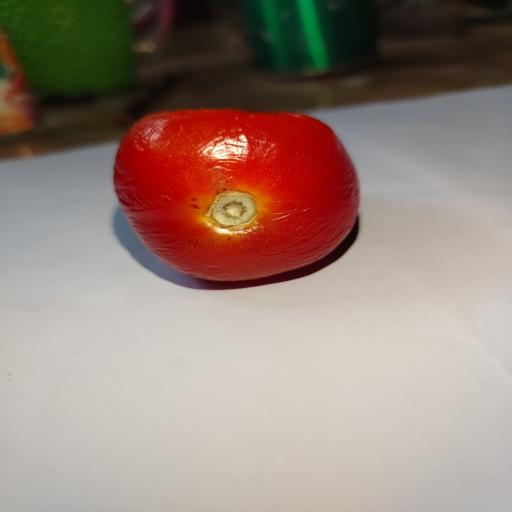spoiled: (114, 110, 358, 280)
